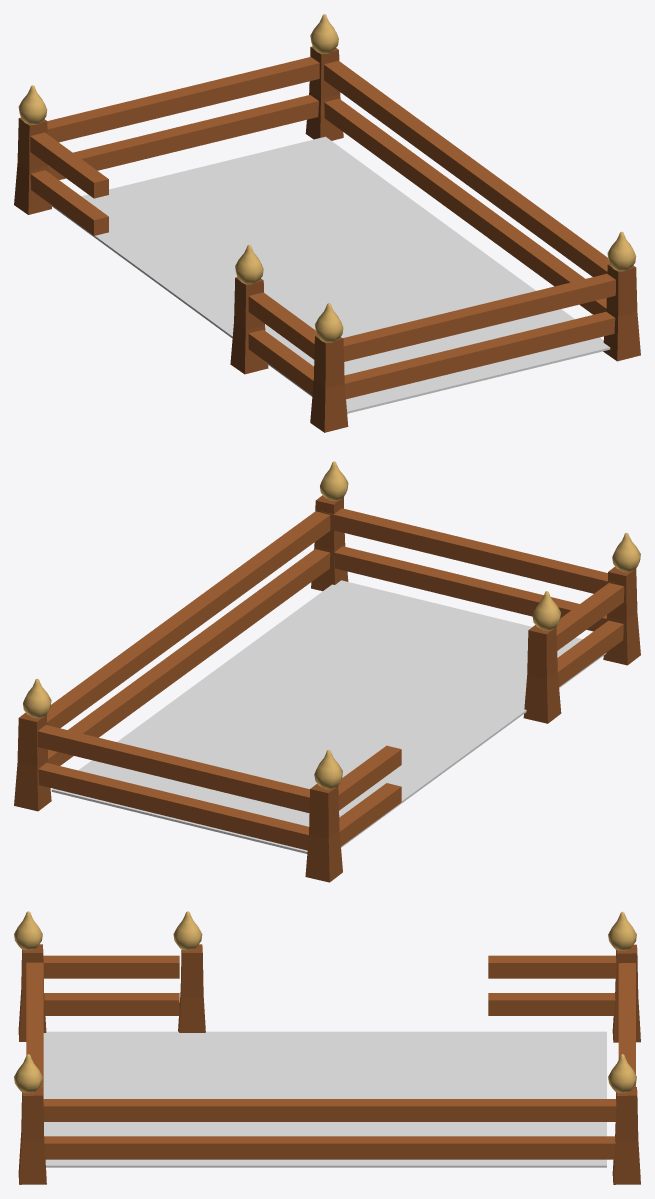
Rendered from Asset_blanketCovered.fbx.
3 renders of one model, top to bottom at view 1: azimuth 30°, elevation 25°; view 2: azimuth 150°, elevation 25°; view 3: azimuth 270°, elevation 25°, orthographic.
Parts seen in each view (by area): view 1: Plane.023, Cube.032, Cube.031, Cube.025, Cube.043, Cube.041, Cube.029, Cube.028, Cube.045, Cube.024, Cube.027; view 2: Plane.023, Cube.032, Cube.025, Cube.031, Cube.041, Cube.024, Cube.045, Cube.043, Cube.027, Cube.029, Cube.028; view 3: Plane.023, Cube.032, Cube.041, Cube.043, Cube.028, Cube.027, Cube.045, Cube.031, Cube.025, Cube.029, Cube.024.
Boxes of the visible parts, x1,y1,x2,y2 form: Plane.023: (51, 136, 610, 413); Cube.032: (324, 60, 609, 314); Cube.031: (343, 273, 615, 399); Cube.025: (47, 57, 319, 179); Cube.043: (30, 132, 108, 235); Cube.041: (248, 292, 316, 395); Cube.029: (310, 303, 348, 432); Cube.028: (603, 231, 640, 361); Cube.045: (230, 244, 268, 374); Cube.024: (14, 85, 51, 214); Cube.027: (305, 14, 343, 140); Plane.023: (51, 580, 606, 853); Cube.032: (47, 511, 330, 765); Cube.025: (37, 725, 309, 850); Cube.031: (321, 508, 614, 631); Cube.041: (556, 583, 624, 686); Cube.024: (305, 750, 342, 882); Cube.045: (523, 591, 561, 723); Cube.043: (338, 745, 401, 846); Cube.027: (14, 678, 51, 811); Cube.029: (603, 532, 640, 665); Cube.028: (311, 461, 348, 591); Plane.023: (43, 1031, 606, 1167); Cube.032: (43, 1099, 616, 1159); Cube.041: (43, 955, 179, 1015); Cube.043: (488, 955, 616, 1015); Cube.028: (14, 1054, 46, 1184); Cube.027: (608, 1054, 640, 1184); Cube.045: (173, 911, 205, 1032); Cube.031: (26, 962, 43, 1101); Cube.025: (618, 963, 635, 1086); Cube.029: (14, 911, 46, 1041); Cube.024: (608, 911, 640, 1042).
Bounding box in the file's own units: 160 × 59.36 × 272.
Materials: 3 (1 with a texture image).
